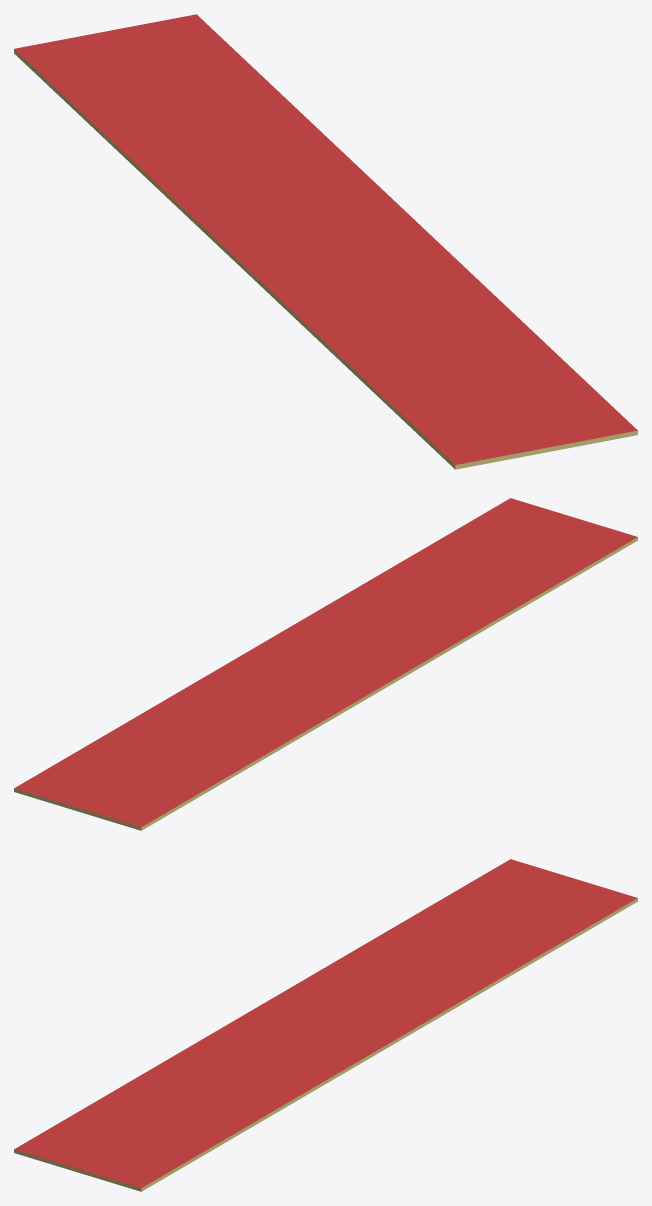
The picture shows the model from 3 angles, top to bottom: view 1: azimuth 30°, elevation 25°; view 2: azimuth 150°, elevation 25°; view 3: azimuth 330°, elevation 25°; orthographic projection. The views are drawn at different scales.
Bounding box in the file's own units: 6.14 × 21.7 × 0.1.
